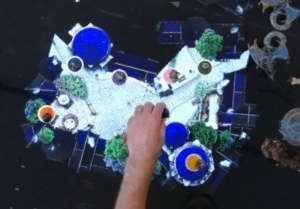blue: (62, 52, 88, 76)
green: (194, 57, 214, 78)
orange: (33, 101, 60, 126)
pink: (162, 64, 183, 85)
violet: (107, 66, 131, 88)
yellow: (180, 148, 208, 173)
